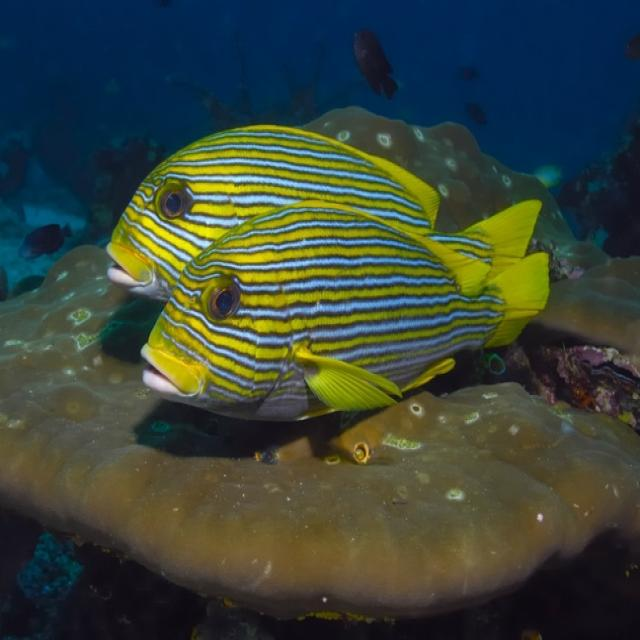RibbonedSweetlips: (140, 199, 550, 425), (106, 123, 544, 301)
